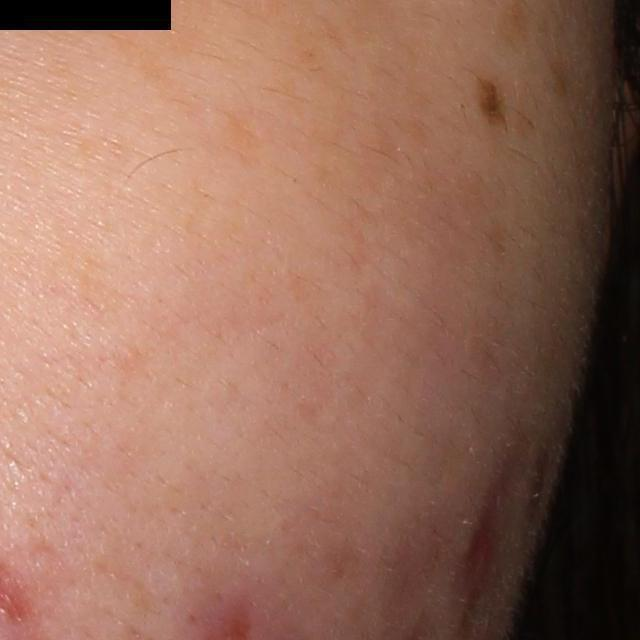melasma: (101, 19, 206, 123), (46, 237, 120, 307), (278, 11, 355, 72), (217, 103, 260, 159)
